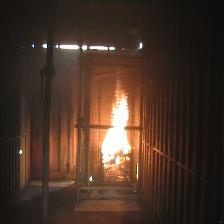fire: (96, 83, 135, 170)
